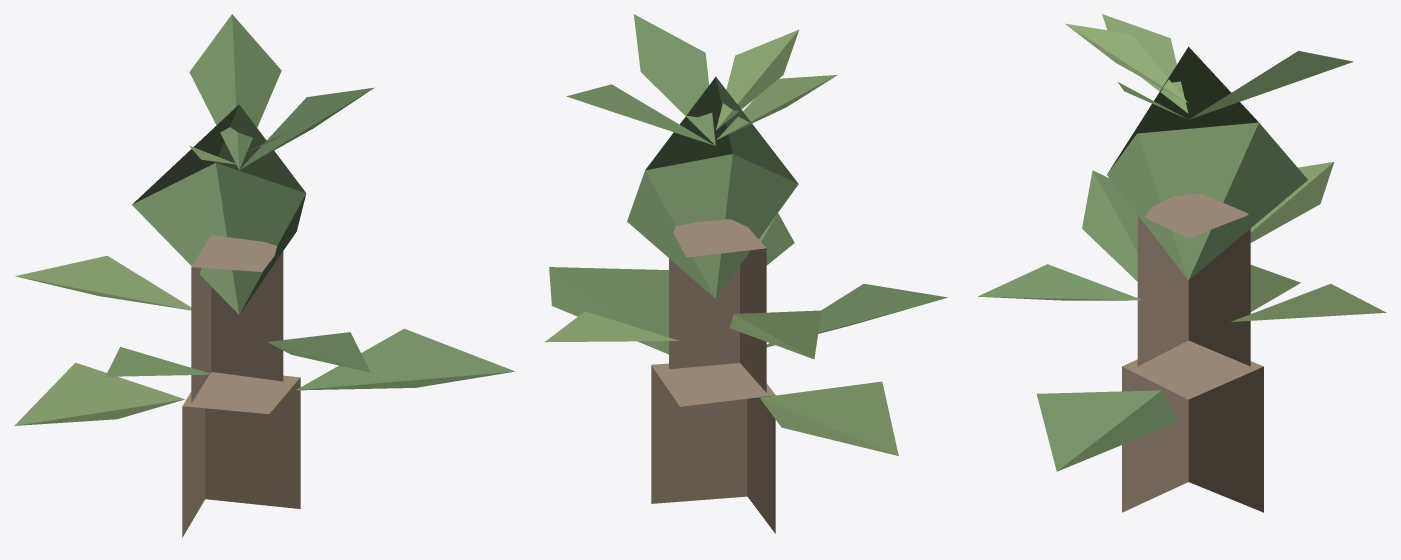
File: cao.hanji@seedling__summer.glb
3 views of the same model, side by side, from view 1: azimuth 30°, elevation 25°; view 2: azimuth 150°, elevation 25°; view 3: azimuth 270°, elevation 25° (orthographic). The views are drawn at different scales.
Parts seen in each view (by area): view 1: cao.hanji@seedling__summer; view 2: cao.hanji@seedling__summer; view 3: cao.hanji@seedling__summer.
Part boxes in pixels (x1,y1,x2,y2): cao.hanji@seedling__summer: [14, 14, 515, 537]; cao.hanji@seedling__summer: [545, 14, 947, 533]; cao.hanji@seedling__summer: [978, 14, 1386, 512].
Size of the model in its own units: 0.1137 by 0.1146 by 0.0873.
